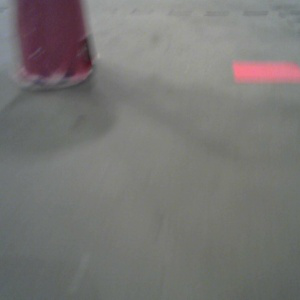middle: (15, 1, 101, 89)
